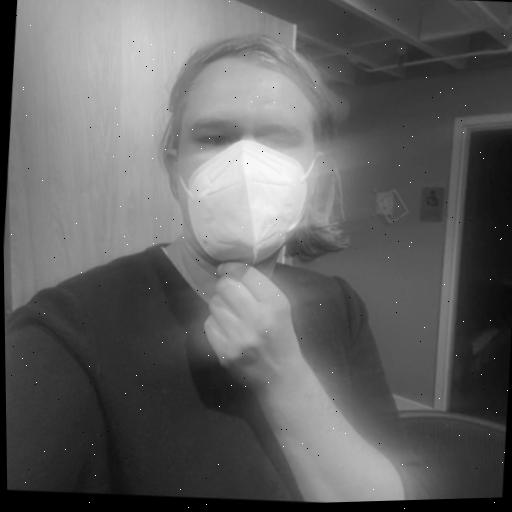mask: (143, 33, 349, 292)
